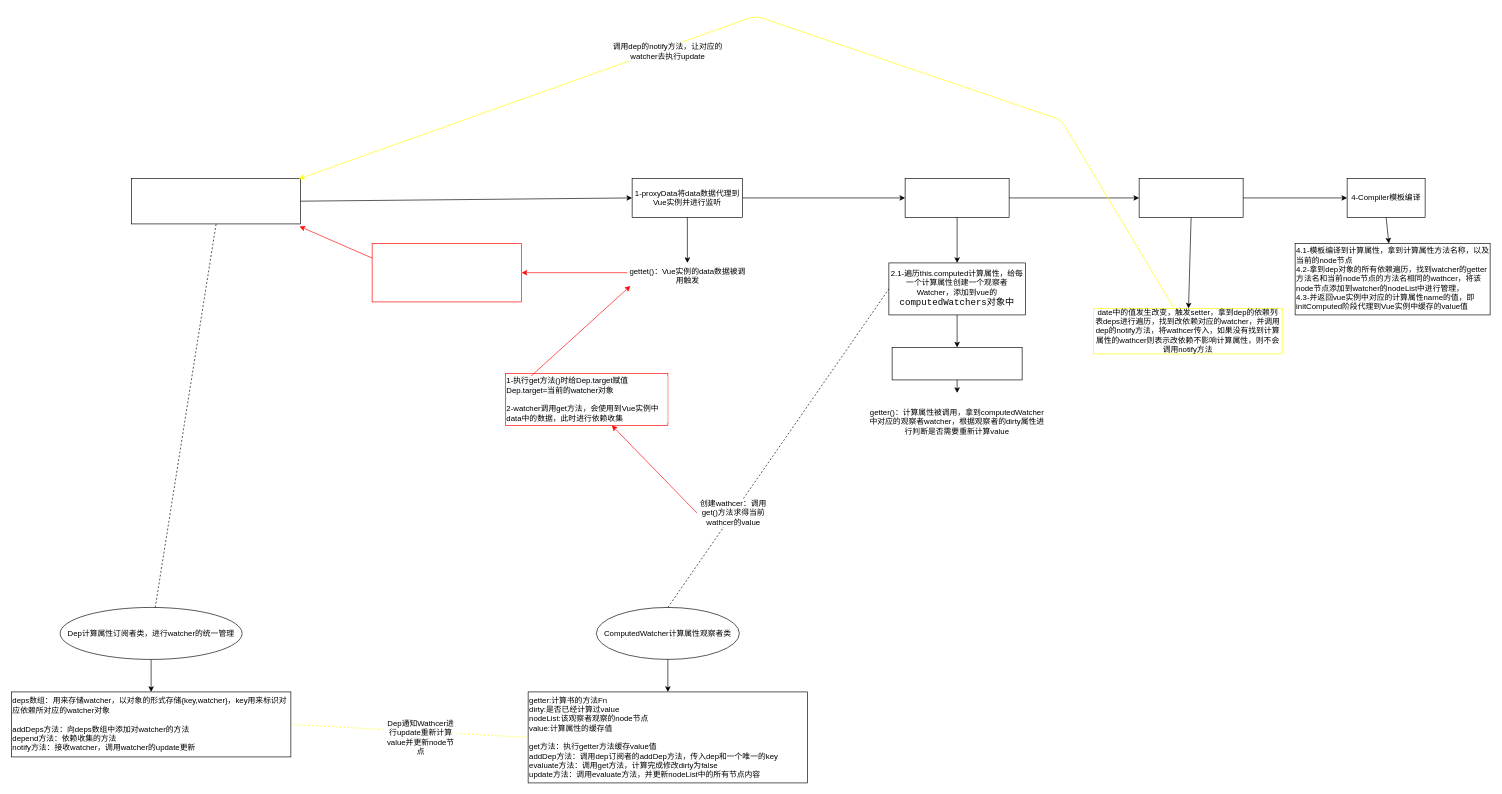
This 1502x794 diagram has some shape labels left out. The centre of each missing label's shape, as x and y in pixels:
"0-创建一个计算属性的订阅者Dep对象， 全局可访问 let dep = new Dep()" goes at (216,201).
"2- initComputed初始化计算属性" goes at (956,197).
"2.2-将计算属性的代理到Vue实例中进行监听，这个时候的getter获取的其实是watcher中缓存的value" goes at (956,363).
"3-Observe观察Vue的data数据的变化触发UI更新" goes at (1190,197).
"调用dep对象的depend依赖收集方法，传入当前的依赖名，depend方法会根据key来判断该依赖是否重复，不重复才将该wathcer添加到deps数组中" goes at (446,272).
